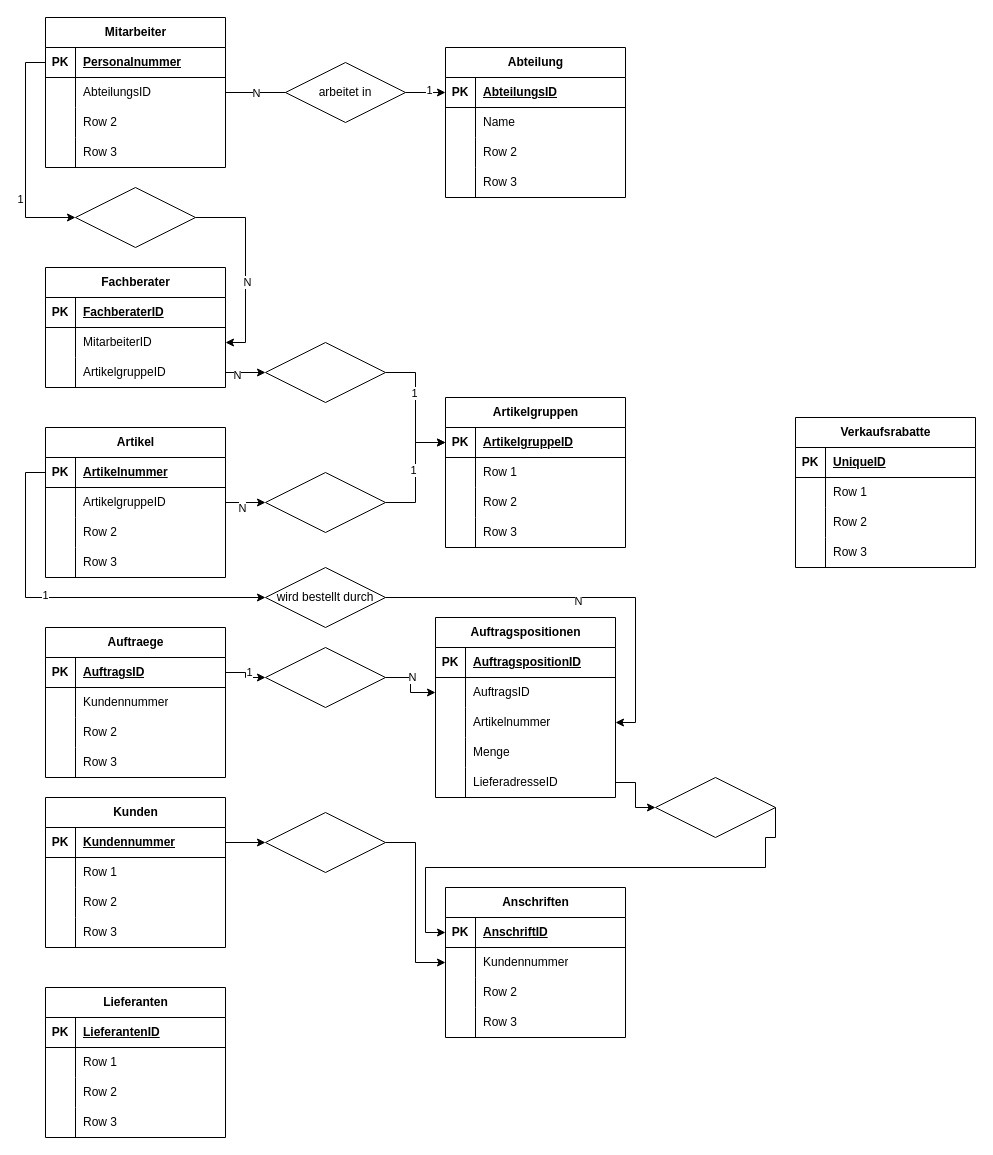
Some shapes in this 993 by 1155 pixel diagram are drawn without their labels. The centre of each missing label's shape, as x and y in pixels:
beratet fuer: the point at 325,372
besteht aus: the point at 325,677
gehoert zu: the point at 325,502
haben viele: the point at 325,842
ist: the point at 135,217
zu liefern an: the point at 715,807
